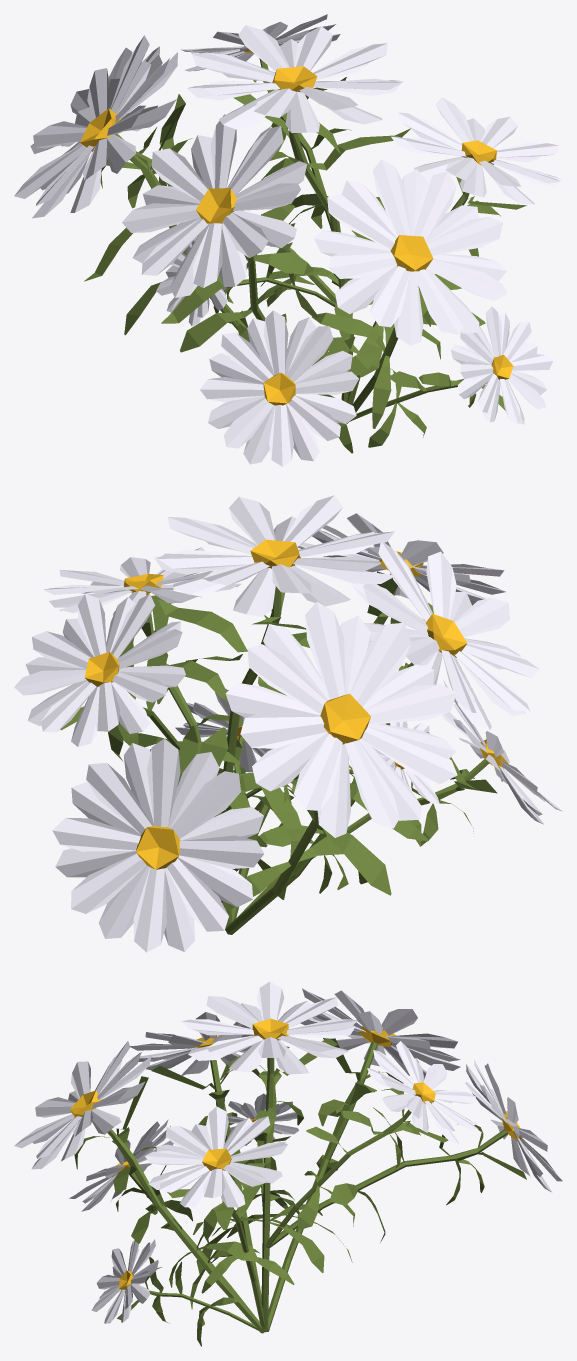
The model's file is margarita_flower_bush.obj.
The picture shows the model from 3 angles, top to bottom: view 1: azimuth 30°, elevation 25°; view 2: azimuth 150°, elevation 25°; view 3: azimuth 270°, elevation 25°; orthographic projection. The views are drawn at different scales.
Visible parts, largest first — view 1: node_margarita_(1)_-2110252, node_margarita_(3)_-2111142, node_margarita_(2)_-2110504, node_margarita_-2109454, node_margarita_(6)_-2117574, node_margarita_(4)_-2111692, node_margarita_(5)_-2111982, node_margarita_(8)_-2121834, node_margarita_(9)_-2122542, node_margarita_(7)_-2118288; view 2: node_margarita_(6)_-2117574, node_margarita_(8)_-2121834, node_margarita_-2109454, node_margarita_(9)_-2122542, node_margarita_(3)_-2111142, node_margarita_(4)_-2111692, node_margarita_(2)_-2110504, node_margarita_(1)_-2110252, node_margarita_(5)_-2111982, node_margarita_(7)_-2118288; view 3: node_margarita_-2109454, node_margarita_(4)_-2111692, node_margarita_(1)_-2110252, node_margarita_(6)_-2117574, node_margarita_(9)_-2122542, node_margarita_(8)_-2121834, node_margarita_(3)_-2111142, node_margarita_(5)_-2111982, node_margarita_(2)_-2110504, node_margarita_(7)_-2118288.
Boxes of the visible parts, x1,y1,x2,y2 form: node_margarita_(1)_-2110252: (312,159,507,428); node_margarita_(3)_-2111142: (122,114,360,354); node_margarita_(2)_-2110504: (200,310,375,466); node_margarita_-2109454: (187,25,410,402); node_margarita_(6)_-2117574: (14,35,314,342); node_margarita_(4)_-2111692: (347,97,562,404); node_margarita_(5)_-2111982: (349,306,552,447); node_margarita_(8)_-2121834: (30,46,336,303); node_margarita_(9)_-2122542: (181,14,351,230); node_margarita_(7)_-2118288: (156,236,335,326); node_margarita_(6)_-2117574: (222,601,457,934); node_margarita_(8)_-2121834: (52,726,267,952); node_margarita_-2109454: (154,495,395,929); node_margarita_(9)_-2122542: (14,594,240,763); node_margarita_(3)_-2111142: (259,542,539,890); node_margarita_(4)_-2111692: (43,547,272,810); node_margarita_(2)_-2110504: (235,680,562,919); node_margarita_(1)_-2110252: (217,513,505,921); node_margarita_(5)_-2111982: (175,688,293,899); node_margarita_(7)_-2118288: (226,721,439,827); node_margarita_-2109454: (181,981,357,1332); node_margarita_(4)_-2111692: (145,1106,294,1328); node_margarita_(1)_-2110252: (14,1041,263,1333); node_margarita_(6)_-2117574: (227,988,460,1331); node_margarita_(9)_-2122542: (265,1041,478,1247); node_margarita_(8)_-2121834: (268,1060,562,1248); node_margarita_(3)_-2111142: (130,1012,294,1301); node_margarita_(5)_-2111982: (91,1239,263,1346); node_margarita_(2)_-2110504: (69,1119,259,1321); node_margarita_(7)_-2118288: (227,1093,298,1212).
Bounding box in the file's own units: 2.23 × 1.78 × 2.98.
